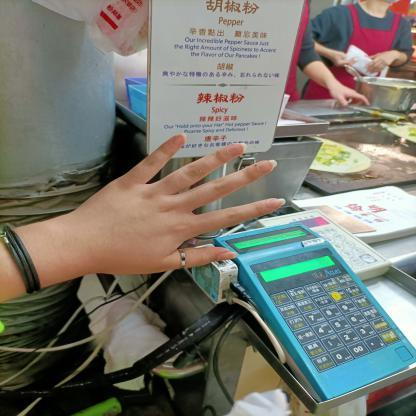bare_hand: (54, 128, 298, 286)
